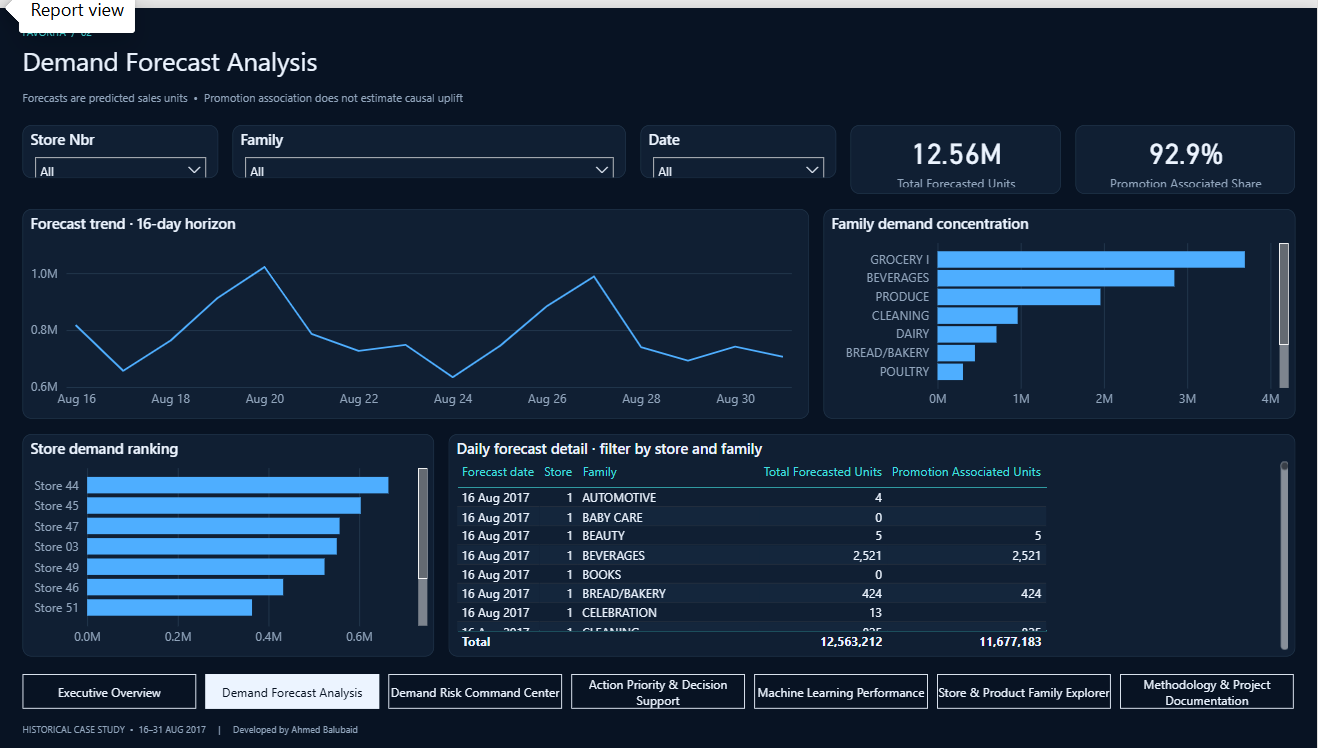

What the dashboard file says about the page in this screenshot:
{"tool":"powerbi","page":{"name":"Demand Forecast Analysis","canvas":[1440,810],"ordinal":1},"visuals":[{"type":"textbox","box":[24,14,300,24],"z":20},{"type":"textbox","box":[24,40,1370,44],"z":21},{"type":"textbox","box":[24,87,1370,30],"z":22},{"type":"textbox","box":[24,777,1040,22],"z":23},{"type":"pageNavigator","box":[24,729,1392,38],"z":24},{"type":"slicer","title":"Store Nbr","fields":{"Values":["DimStore.store_nbr"]},"box":[24,128,214,58],"z":25},{"type":"slicer","title":"Family","fields":{"Values":["DimFamily.family"]},"box":[254,128,430,58],"z":26},{"type":"slicer","title":"Date","fields":{"Values":["DimDate.date"]},"box":[700,128,214,58],"z":27},{"type":"card","fields":{"Values":["FactForecast.Total Forecasted Units"]},"box":[930,128,230,75],"z":28},{"type":"card","fields":{"Values":["FactForecast.Promotion Associated Share"]},"box":[1176,128,240,75],"z":29},{"type":"lineChart","title":"Forecast trend · 16-day horizon","fields":{"Category":["DimDate.date"],"Y":["FactForecast.Total Forecasted Units"]},"box":[24,220,860,229],"z":30},{"type":"clusteredBarChart","title":"Family demand concentration","fields":{"Category":["DimFamily.family"],"Y":["FactForecast.Top 10 Family Forecast"]},"box":[900,220,516,229],"z":31},{"type":"clusteredBarChart","title":"Store demand ranking","fields":{"Category":["DimStore.store_label"],"Y":["FactForecast.Top 10 Store Forecast"]},"box":[24,465,450,243],"z":32},{"type":"tableEx","title":"Daily forecast detail · filter by store and family","fields":{"Values":["DimDate.date","DimStore.store_nbr","DimFamily.family","FactForecast.Total Forecasted Units","FactForecast.Promotion Associated Units"]},"box":[490,465,926,243],"z":33}]}

Visuals, with their boxes on the page's 1440x810 design canvas (x1, y1, x2, y2). These are canvas units, not pixel positions in the 1318x748 screenshot, which may show the page scaled, cropped or inside an application window:
textbox: left=24, top=14, right=324, bottom=38
textbox: left=24, top=40, right=1394, bottom=84
textbox: left=24, top=87, right=1394, bottom=117
textbox: left=24, top=777, right=1064, bottom=799
pageNavigator: left=24, top=729, right=1416, bottom=767
"Store Nbr" slicer: left=24, top=128, right=238, bottom=186
"Family" slicer: left=254, top=128, right=684, bottom=186
"Date" slicer: left=700, top=128, right=914, bottom=186
card - FactForecast.Total Forecasted Units: left=930, top=128, right=1160, bottom=203
card - FactForecast.Promotion Associated Share: left=1176, top=128, right=1416, bottom=203
"Forecast trend · 16-day horizon" lineChart: left=24, top=220, right=884, bottom=449
"Family demand concentration" clusteredBarChart: left=900, top=220, right=1416, bottom=449
"Store demand ranking" clusteredBarChart: left=24, top=465, right=474, bottom=708
"Daily forecast detail · filter by store and family" tableEx: left=490, top=465, right=1416, bottom=708
